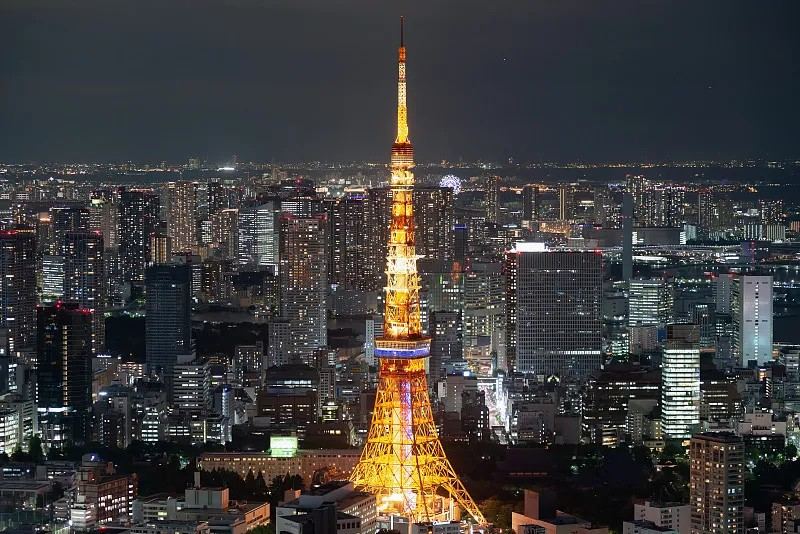Tokyo: (352, 16, 485, 528)
